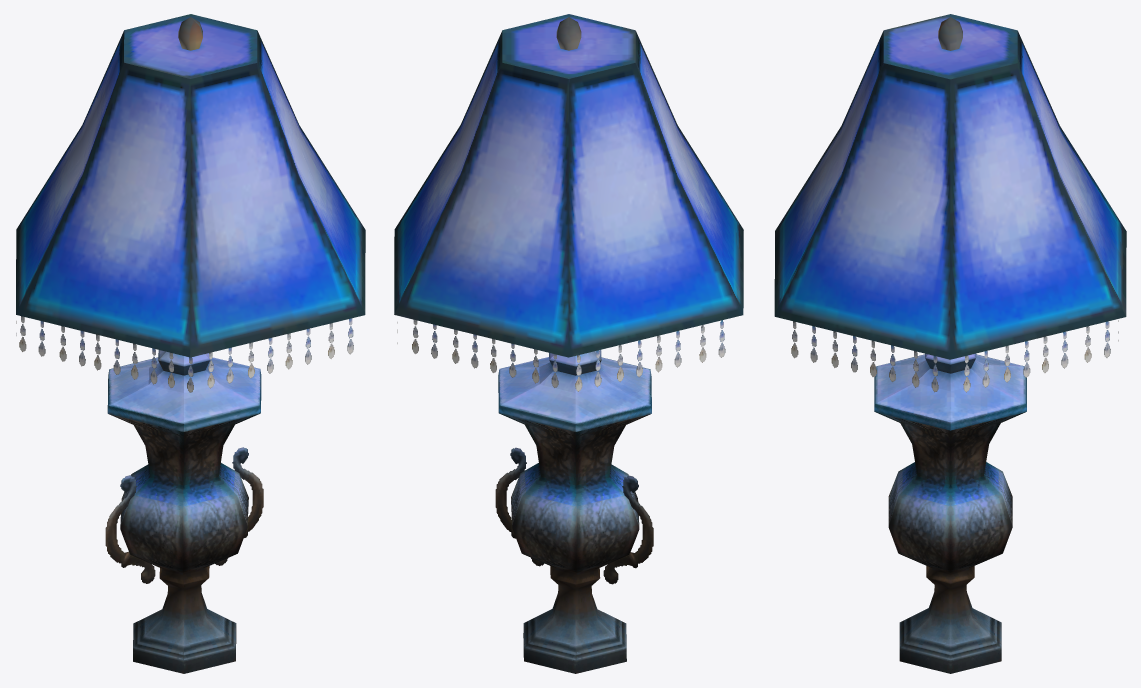
Rendered from furni_0201201_01.FBX.
The picture shows the model from 3 angles, left to right: view 1: azimuth 30°, elevation 25°; view 2: azimuth 150°, elevation 25°; view 3: azimuth 270°, elevation 25°; orthographic projection.
Visible parts, largest first — view 1: furni_0201201_01; view 2: furni_0201201_01; view 3: furni_0201201_01.
Boxes of the visible parts, x1,y1,x2,y2 form: furni_0201201_01: [16, 14, 365, 673]; furni_0201201_01: [394, 14, 743, 673]; furni_0201201_01: [774, 14, 1126, 673].
Size of the model in its own units: 59.47 by 103 by 51.88.
